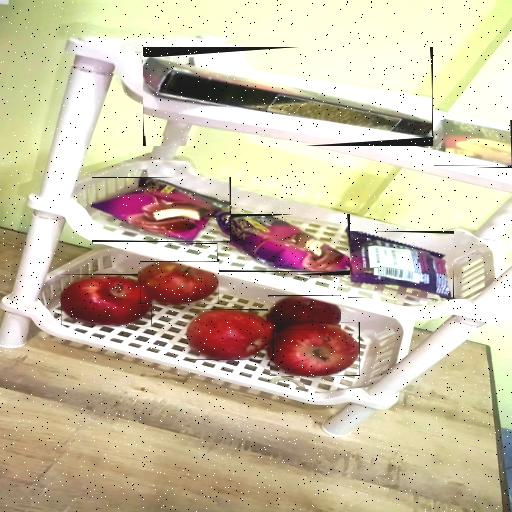Apple: (270, 323, 359, 376), (61, 274, 152, 325), (187, 309, 274, 360), (140, 262, 219, 303), (269, 296, 340, 330)
Choco Fills: (143, 57, 432, 136), (434, 120, 512, 166)
Choco Pie: (92, 178, 230, 242), (217, 216, 350, 272), (349, 231, 452, 298)
